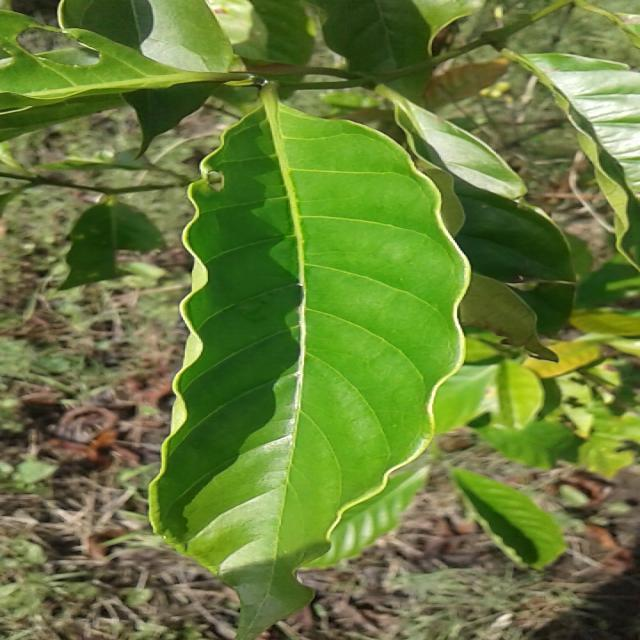Sanas: (148, 88, 472, 640)
